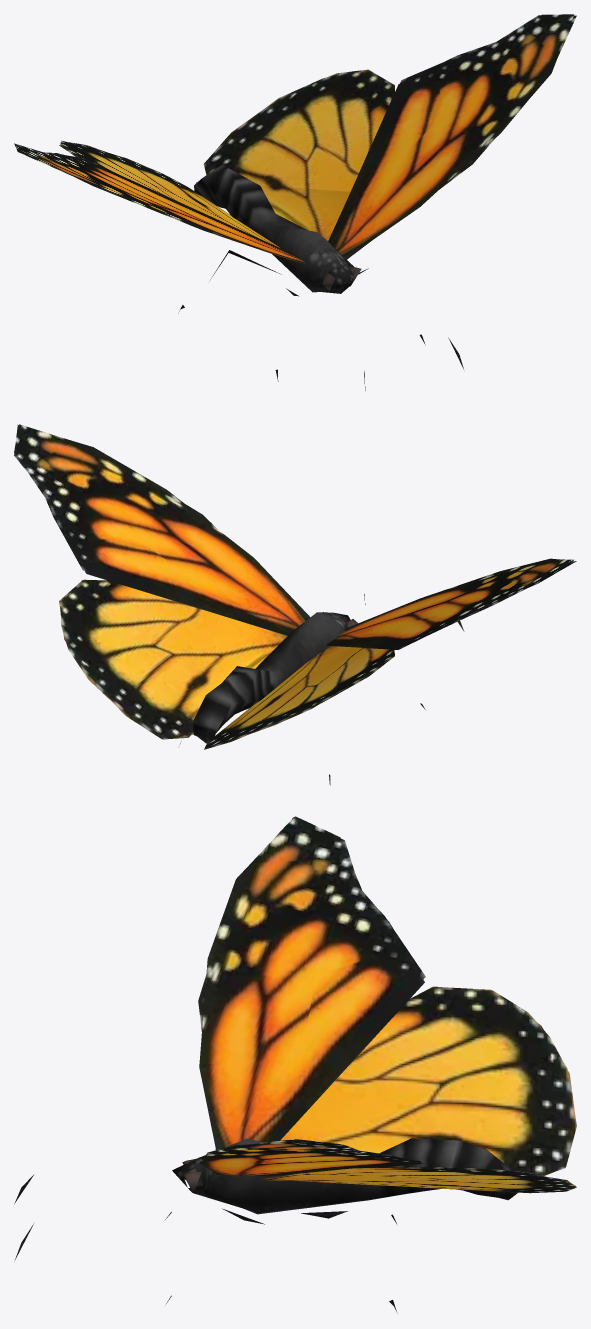
The model's file is butterfly.glb.
3 renders of one model, top to bottom at view 1: azimuth 30°, elevation 25°; view 2: azimuth 150°, elevation 25°; view 3: azimuth 270°, elevation 25°, orthographic. The views are drawn at different scales.
Visible parts, largest first — view 1: butterfly; view 2: butterfly; view 3: butterfly.
Boxes of the visible parts, <box> form: butterfly: <box>14,14,576,390</box>; butterfly: <box>14,424,576,785</box>; butterfly: <box>14,816,576,1313</box>.
Size of the model in its own units: 1 by 0.4198 by 0.7321.
Materials: 1 (1 with a texture image).
